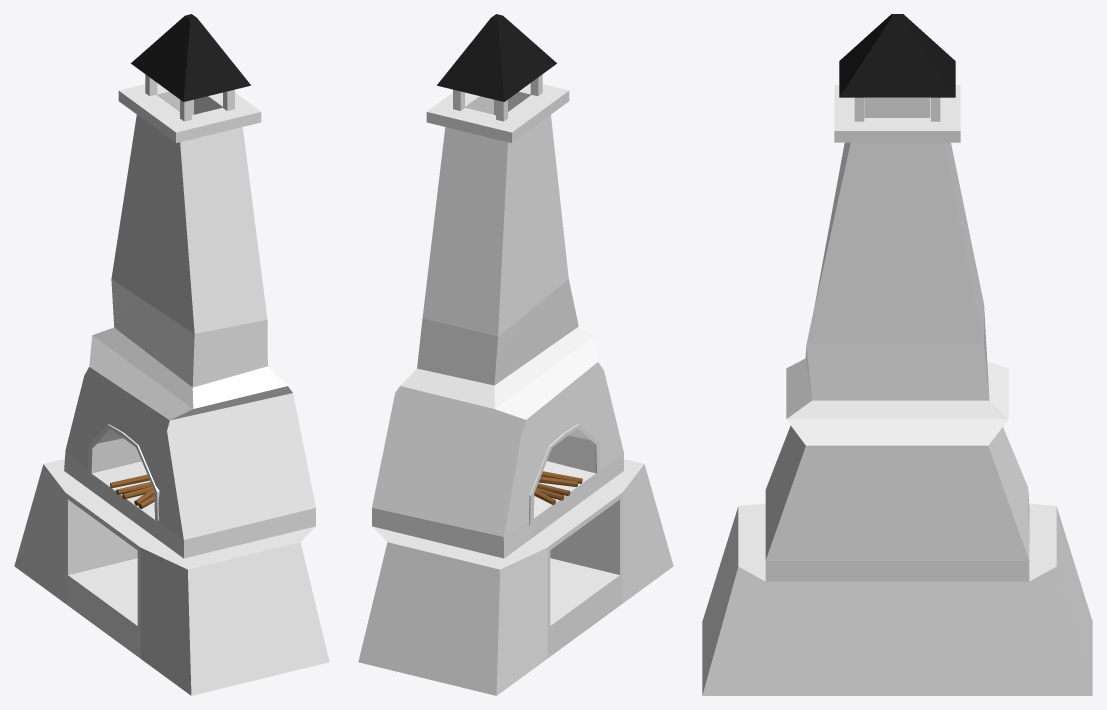
The model's file is furnanceComplete.fbx.
3 views of the same model, side by side, from view 1: azimuth 30°, elevation 25°; view 2: azimuth 150°, elevation 25°; view 3: azimuth 270°, elevation 25° (orthographic). The views are drawn at different scales.
Visible parts, largest first — view 1: furnance, wood; view 2: furnance, wood; view 3: furnance.
Part boxes in pixels (bbox=[...]): furnance: bbox=[14, 14, 329, 695]; wood: bbox=[110, 474, 154, 508]; furnance: bbox=[358, 14, 673, 695]; wood: bbox=[534, 471, 582, 504]; furnance: bbox=[702, 14, 1092, 695].
Size of the model in its own units: 376 by 1389 by 752.
